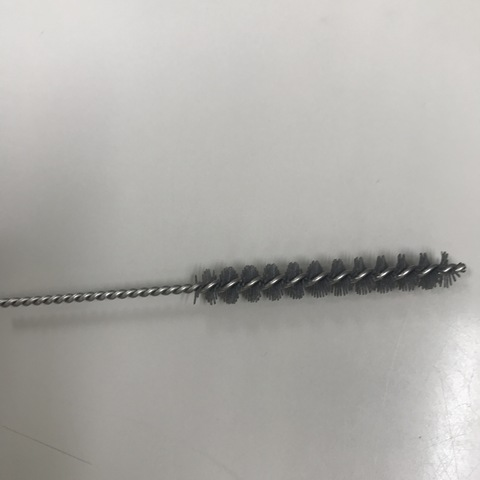Twist Brush-A: (1, 243, 474, 322)
